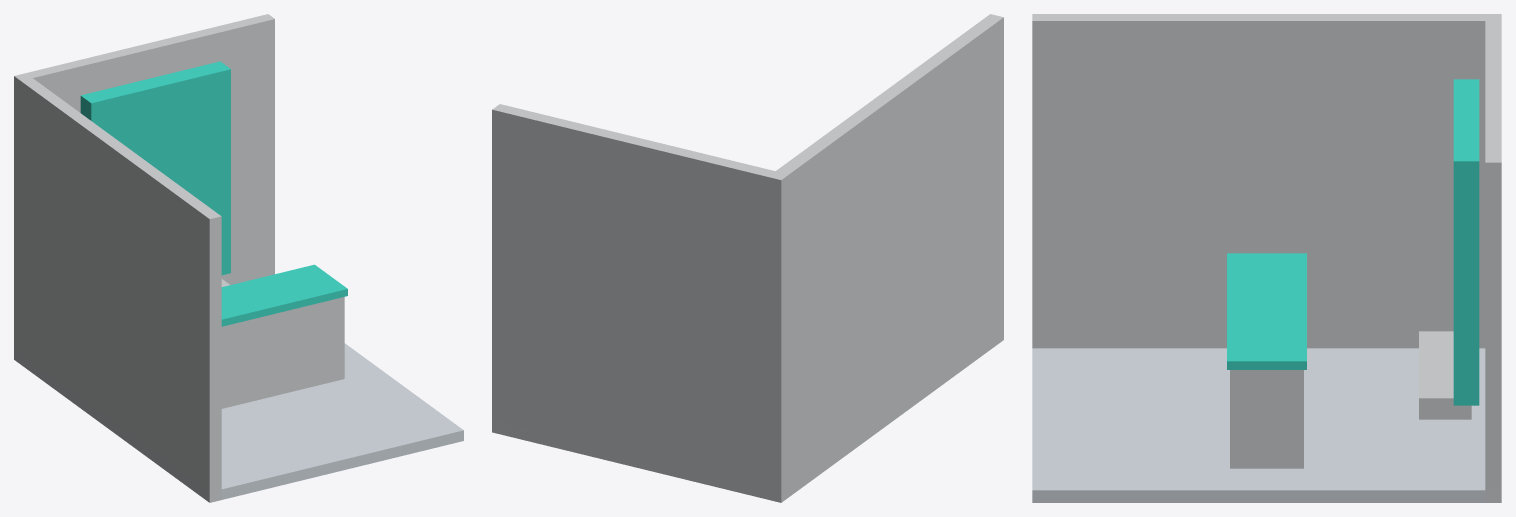
3 views of the same model, side by side, from view 1: azimuth 30°, elevation 25°; view 2: azimuth 150°, elevation 25°; view 3: azimuth 270°, elevation 25° (orthographic). The views are drawn at different scales.
Visible parts, largest first — view 1: Exhibition Booth Concept; view 2: Exhibition Booth Concept; view 3: Exhibition Booth Concept.
Boxes of the visible parts, x1,y1,x2,y2 form: Exhibition Booth Concept: (14,14,463,502); Exhibition Booth Concept: (492,14,1003,502); Exhibition Booth Concept: (1032,14,1501,502).
Size of the model in its own units: 3 by 3.2 by 4.
